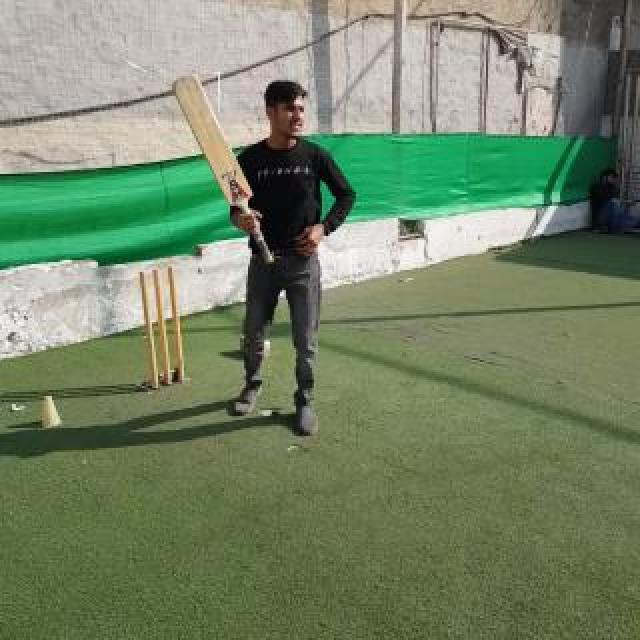bat: (174, 72, 274, 264)
